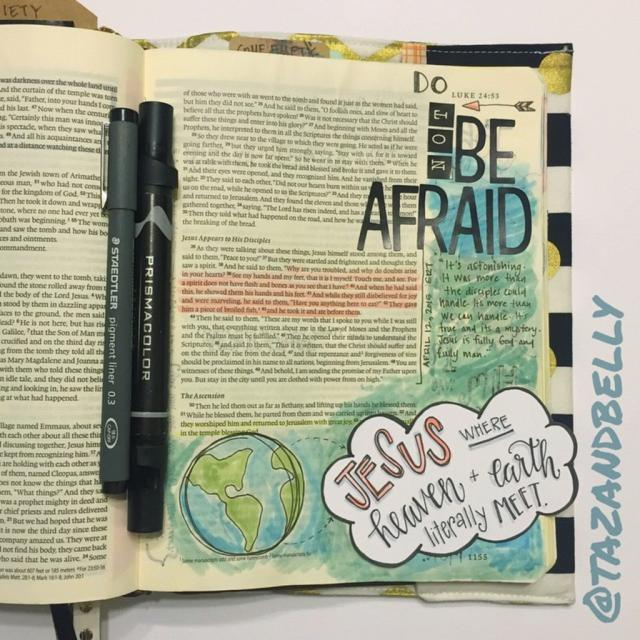Book: (0, 20, 562, 606)
